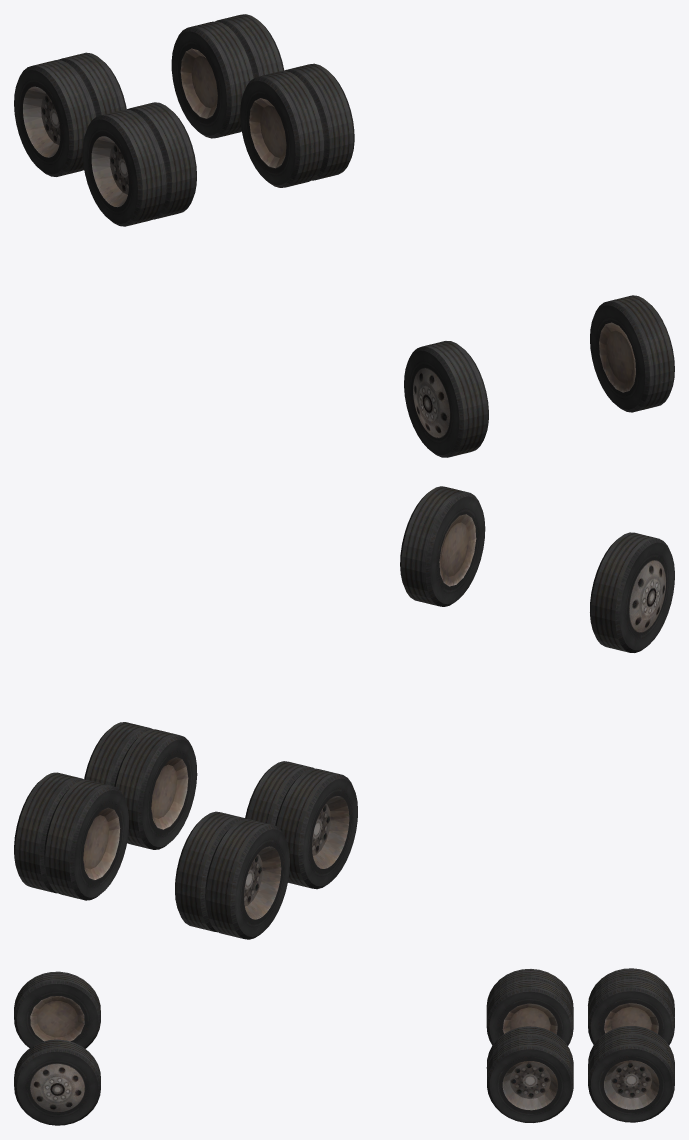
File: Wheels.obj
3 renders of one model, top to bottom at view 1: azimuth 30°, elevation 25°; view 2: azimuth 150°, elevation 25°; view 3: azimuth 270°, elevation 25°, orthographic. The views are drawn at different scales.
Parts seen in each view (by area): view 1: DrawCall_0817, DrawCall_0819, DrawCall_0820, DrawCall_0821, DrawCall_0818, DrawCall_0816; view 2: DrawCall_0820, DrawCall_0821, DrawCall_0819, DrawCall_0817, DrawCall_0816, DrawCall_0818; view 3: DrawCall_0817, DrawCall_0820, DrawCall_0816, DrawCall_0818, DrawCall_0819, DrawCall_0821.
Boxes of the visible parts, box(x1,y1,x2,y2) form: DrawCall_0817: box(240, 63, 354, 187); DrawCall_0819: box(82, 102, 196, 226); DrawCall_0820: box(171, 14, 284, 138); DrawCall_0821: box(14, 52, 126, 176); DrawCall_0818: box(404, 341, 488, 457); DrawCall_0816: box(590, 295, 674, 412); DrawCall_0820: box(14, 772, 128, 900); DrawCall_0821: box(175, 811, 289, 939); DrawCall_0819: box(245, 761, 357, 889); DrawCall_0817: box(84, 722, 197, 849); DrawCall_0816: box(400, 486, 485, 606); DrawCall_0818: box(590, 532, 674, 652); DrawCall_0817: box(486, 1026, 573, 1122); DrawCall_0820: box(588, 1026, 674, 1122); DrawCall_0816: box(14, 1039, 100, 1125); DrawCall_0818: box(14, 971, 100, 1048); DrawCall_0819: box(486, 969, 573, 1045); DrawCall_0821: box(588, 968, 674, 1045).
Size of the model in its own units: 2.66 by 1.18 by 8.98.
1 material, 1 textured.
